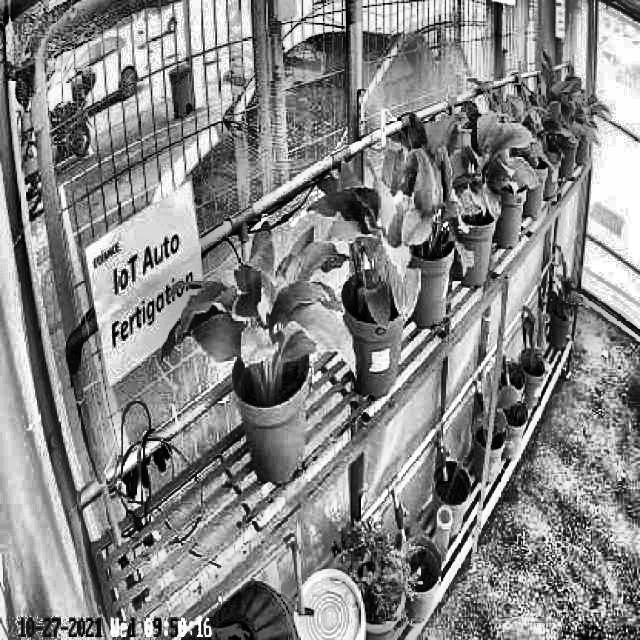plants: (161, 217, 357, 403), (364, 112, 472, 280), (318, 199, 416, 338), (441, 92, 547, 208)
